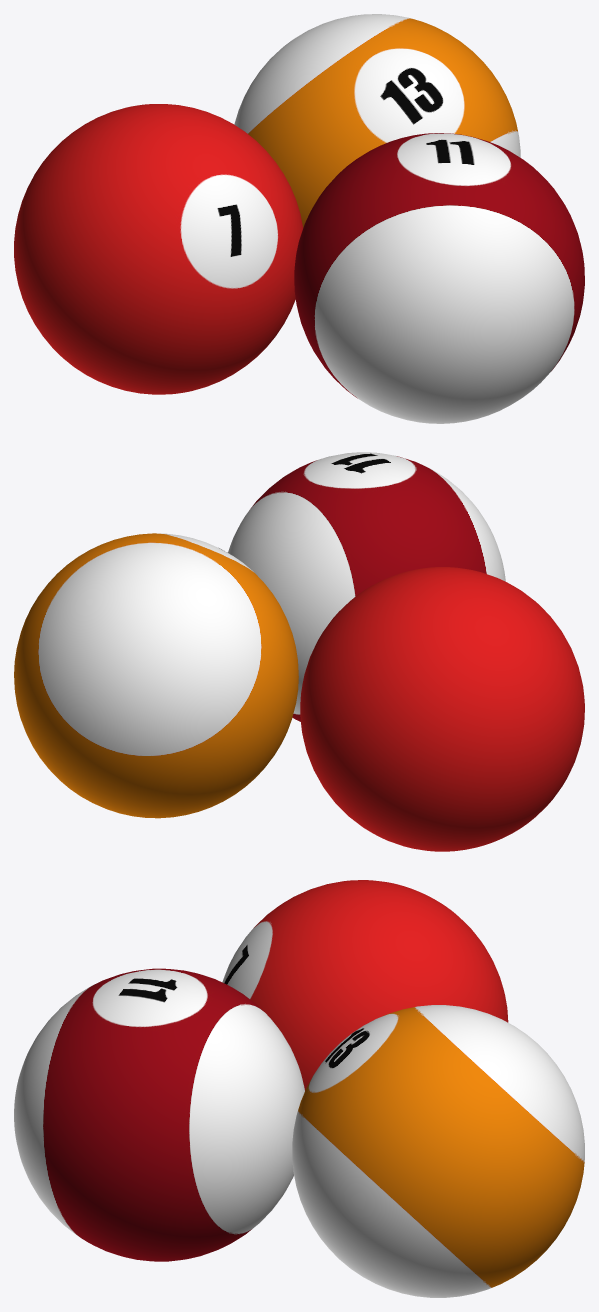
Rendered from 3ball.obj.
The picture shows the model from 3 angles, top to bottom: view 1: azimuth 30°, elevation 25°; view 2: azimuth 150°, elevation 25°; view 3: azimuth 270°, elevation 25°; orthographic projection. The views are drawn at different scales.
Visible parts, largest first — view 1: 11_메쉬.007, 7_메쉬.009, 13_메쉬.006; view 2: 7_메쉬.009, 13_메쉬.006, 11_메쉬.007; view 3: 13_메쉬.006, 11_메쉬.007, 7_메쉬.009.
Part boxes in pixels (x1,y1,x2,y2): 11_메쉬.007: (294,133,584,423); 7_메쉬.009: (14,104,303,394); 13_메쉬.006: (234,14,520,227); 7_메쉬.009: (300,567,584,851); 13_메쉬.006: (14,533,298,818); 11_메쉬.007: (228,452,505,721); 13_메쉬.006: (292,1005,584,1297); 11_메쉬.007: (14,968,304,1261); 7_메쉬.009: (222,880,508,1090).
Bounding box in the file's own units: 0.8414 × 0.419 × 0.8161.
Materials: 3 (3 with a texture image).
